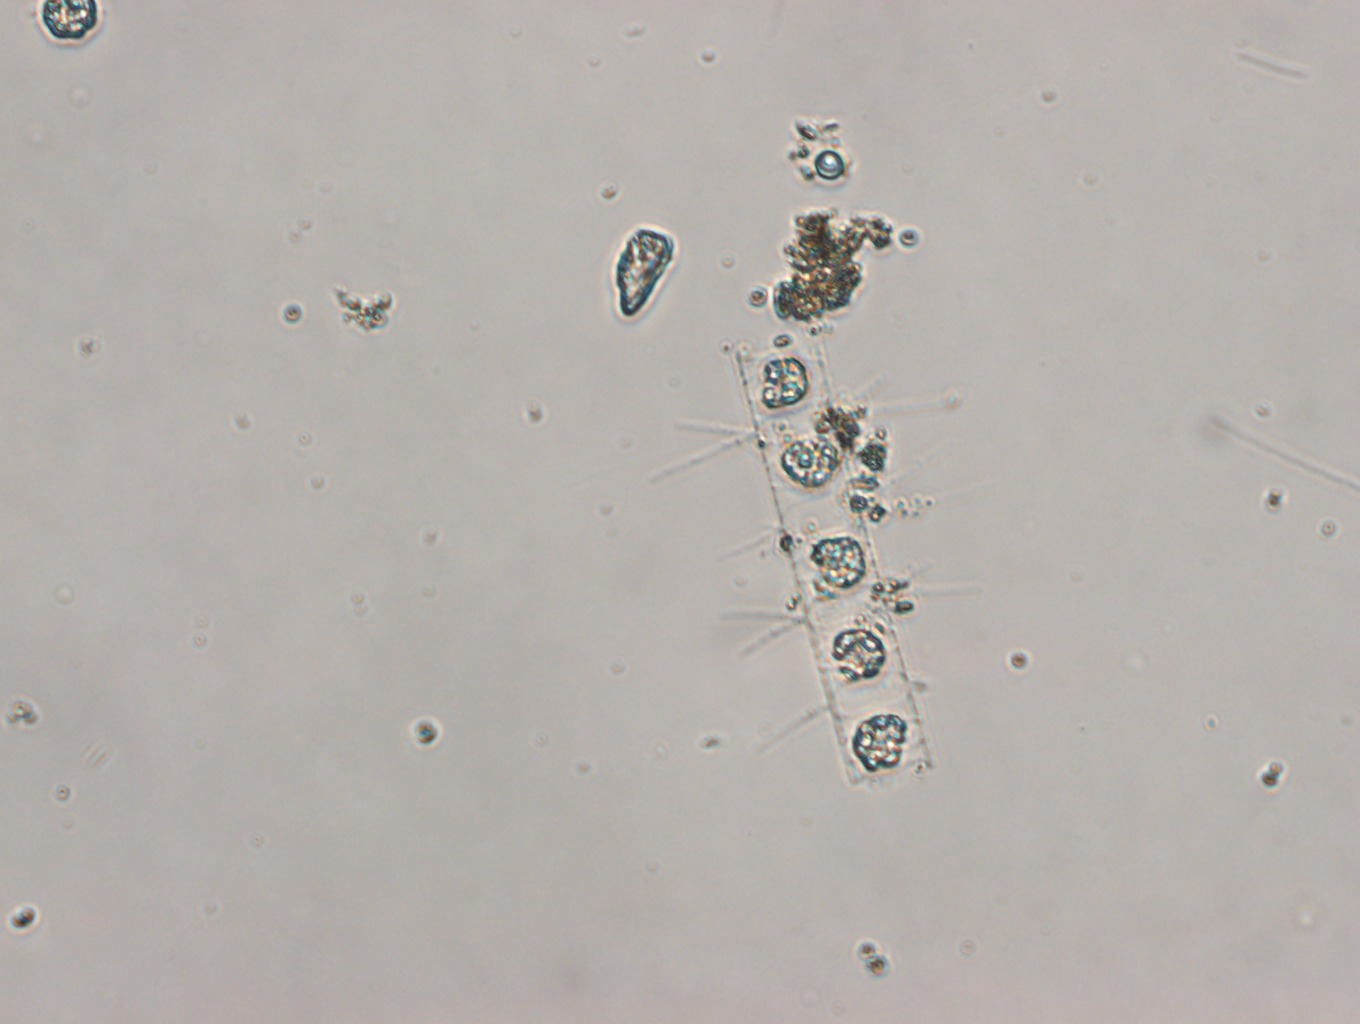chaetoceros: (652, 332, 976, 792)
